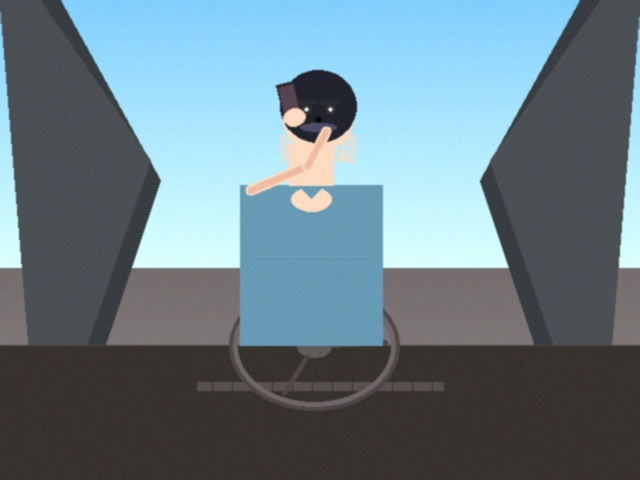phone_usage: (273, 75, 307, 129)
